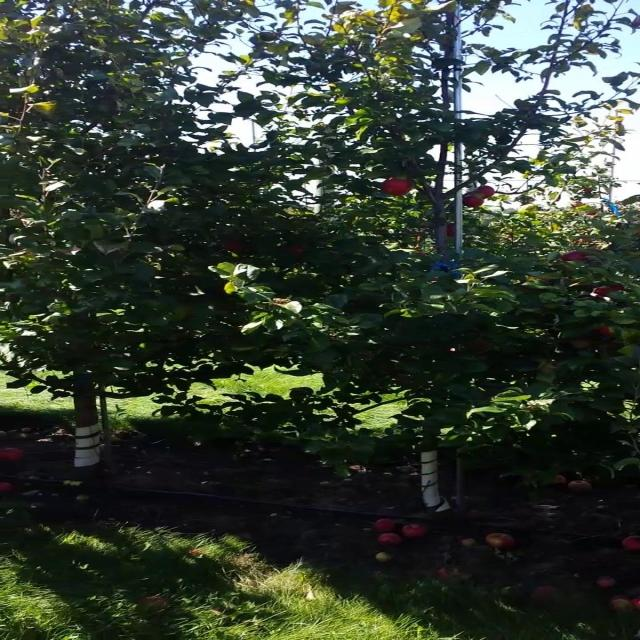apple: (383, 180, 412, 196), (596, 284, 628, 297), (561, 252, 590, 264), (461, 196, 484, 208), (476, 188, 498, 200), (604, 284, 628, 295), (468, 340, 491, 351), (227, 240, 245, 252), (596, 288, 615, 297), (596, 328, 617, 336), (575, 340, 592, 348), (291, 248, 306, 256), (447, 224, 455, 237)
